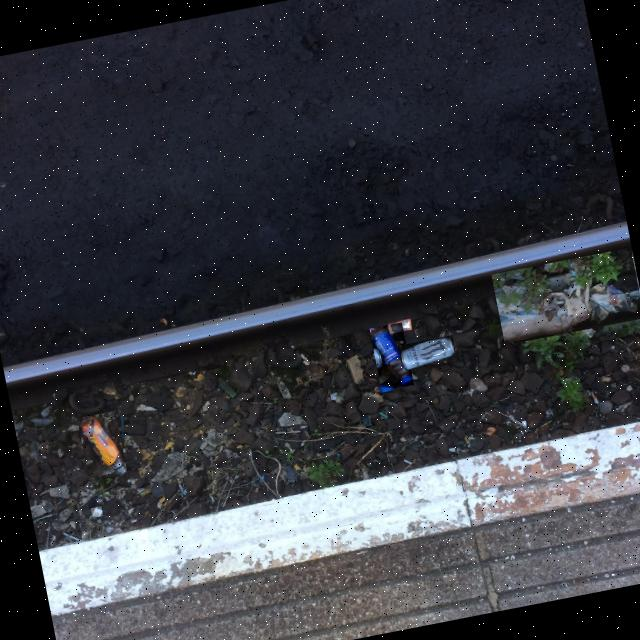Cigarette: (591, 392, 597, 405)
Clear plastic bottle: (79, 417, 128, 476), (372, 327, 414, 386)
Drink can: (401, 336, 456, 370)
Metal bottle cap: (336, 395, 343, 403), (375, 387, 382, 393), (331, 394, 337, 400)
Normal paper: (495, 260, 640, 344)
Other plastic: (388, 319, 412, 331)
Other plastic bottle: (380, 412, 388, 418)
Plastic bottle cap: (381, 384, 393, 391), (362, 417, 371, 425)
Plastic utensils: (93, 507, 103, 517)
Unlabeled litter: (64, 533, 82, 542), (34, 515, 53, 521), (179, 484, 187, 495)
